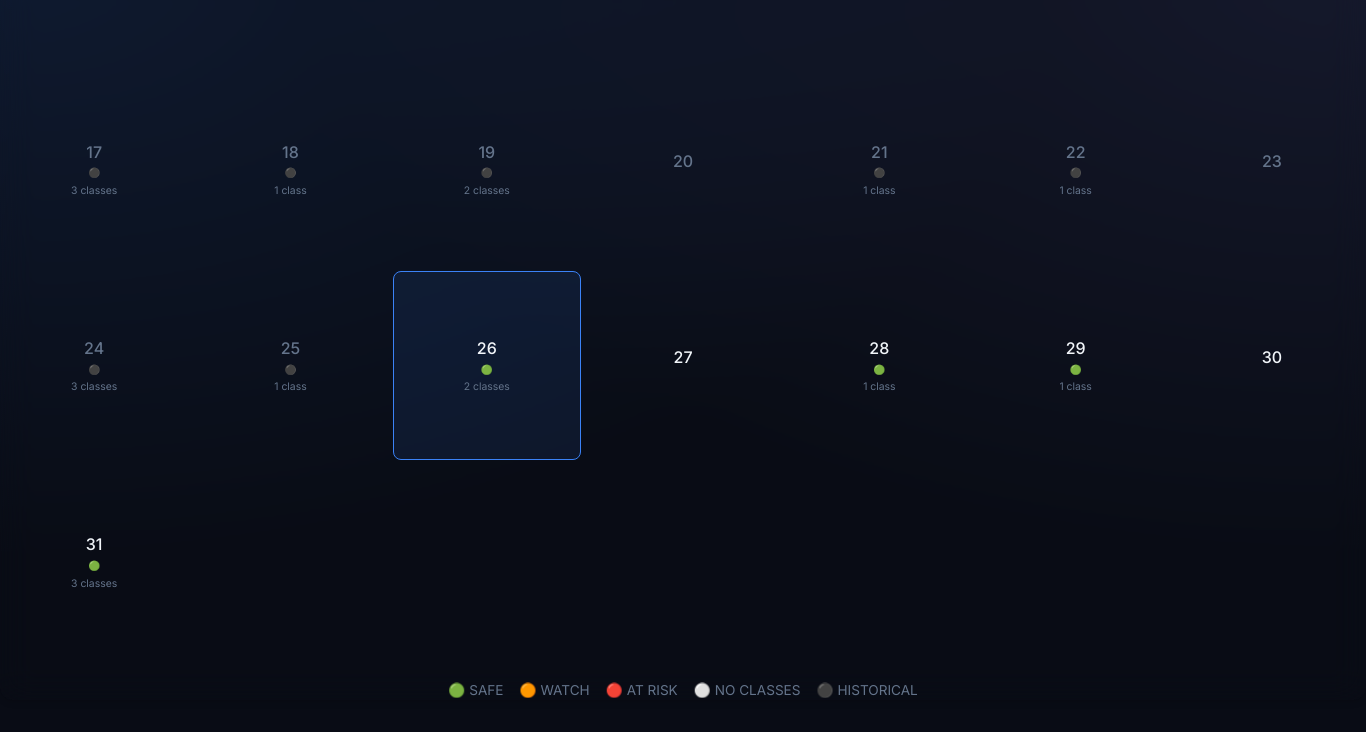
Scenario: AttendanceCalendar › calculates multiple occurrences and handles UNAVAILABLE
(page scrolled)
Click the text "26" at (487, 348), box [477, 336, 497, 360]
(page scrolled)
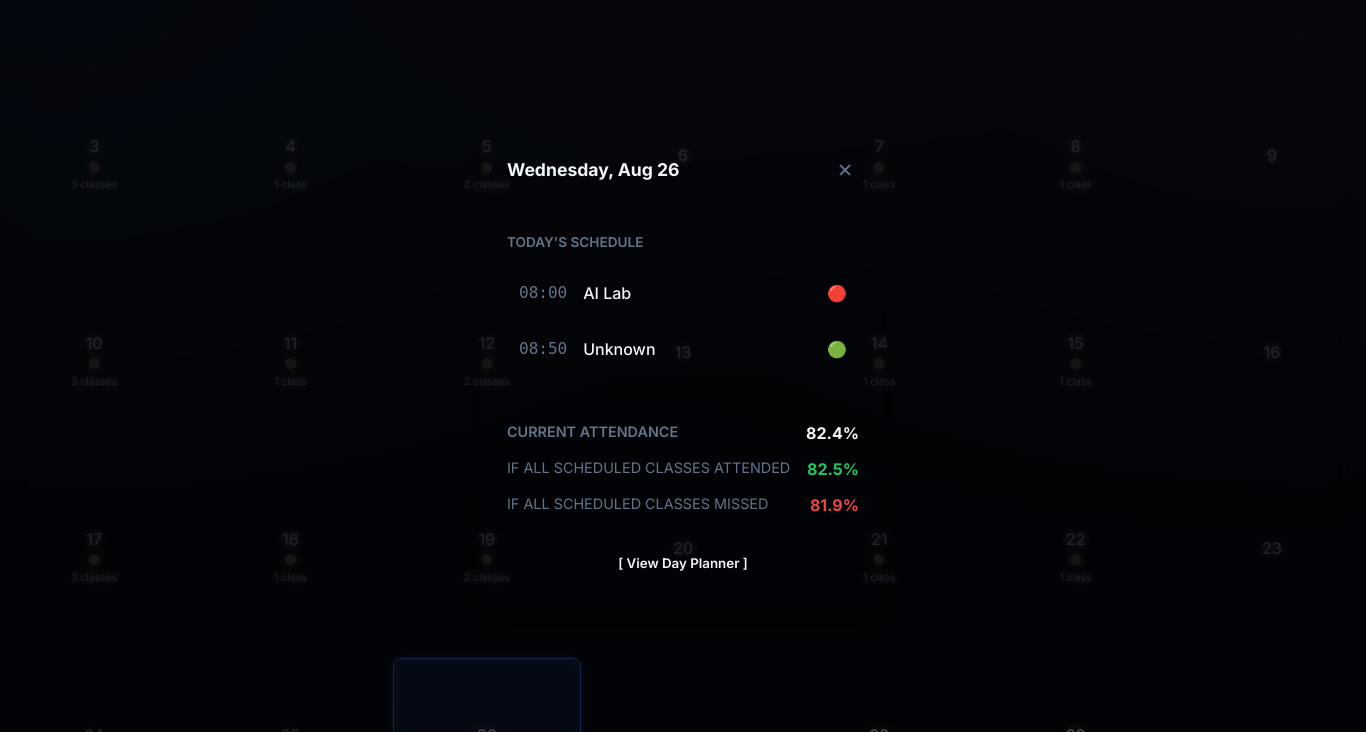
Now the text "AI Lab" is shown, box [583, 281, 631, 305]
Now the text "Unknown" is shown, box [583, 337, 656, 361]
